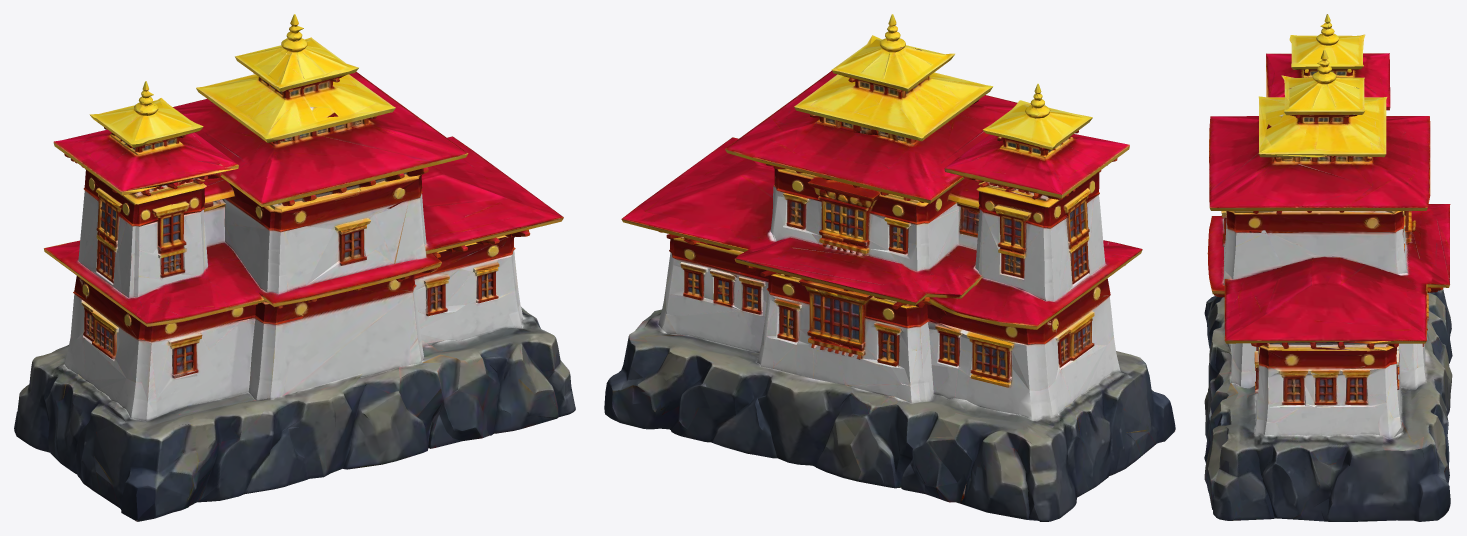
The model's file is cliff-temple.glb.
The picture shows the model from 3 angles, left to right: view 1: azimuth 30°, elevation 25°; view 2: azimuth 150°, elevation 25°; view 3: azimuth 270°, elevation 25°; orthographic projection. The views are drawn at different scales.
Parts seen in each view (by area): view 1: output_unwrapped; view 2: output_unwrapped; view 3: output_unwrapped.
Part boxes in pixels (x1,y1,x2,y2): output_unwrapped: (14, 14, 575, 521); output_unwrapped: (604, 14, 1175, 521); output_unwrapped: (1204, 14, 1452, 521).
Bounding box in the file's own units: 1.9 × 1.64 × 0.993.
Materials: 1 (1 with a texture image).
